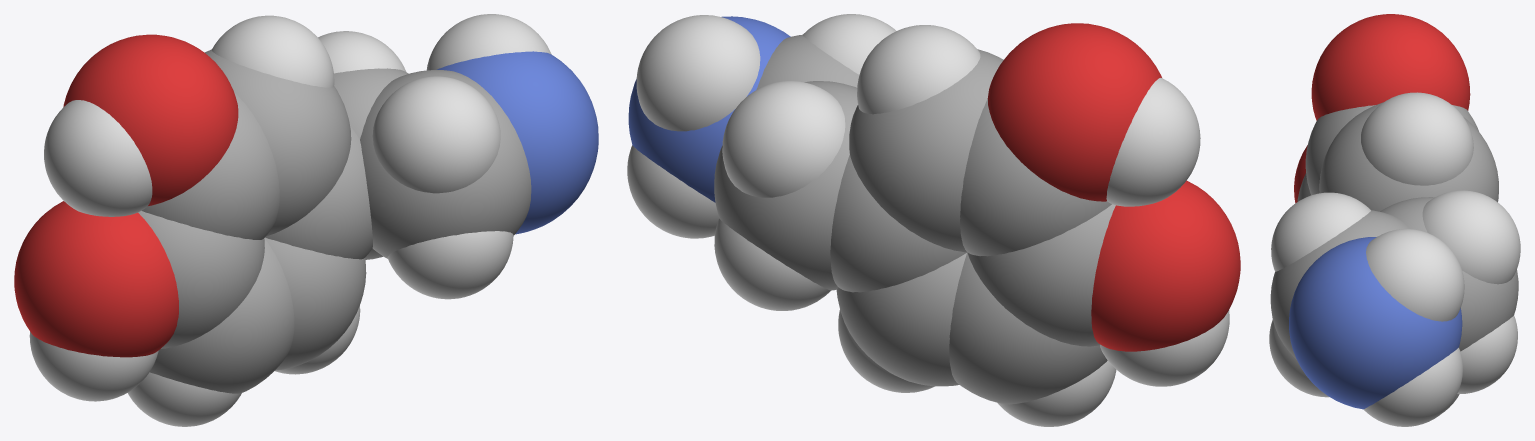
The model's file is 681-CPK-color-print_NIH3D.glb.
3 views of the same model, side by side, from view 1: azimuth 30°, elevation 25°; view 2: azimuth 150°, elevation 25°; view 3: azimuth 270°, elevation 25° (orthographic). The views are drawn at different scales.
Visible parts, largest first — view 1: atoms; view 2: atoms; view 3: atoms.
Boxes of the visible parts, left/top/right/bottom form: atoms: left=14, top=14, right=598, bottom=426; atoms: left=627, top=14, right=1240, bottom=426; atoms: left=1269, top=14, right=1520, bottom=426.
Size of the model in its own units: 10.9 by 7.11 by 4.75.
